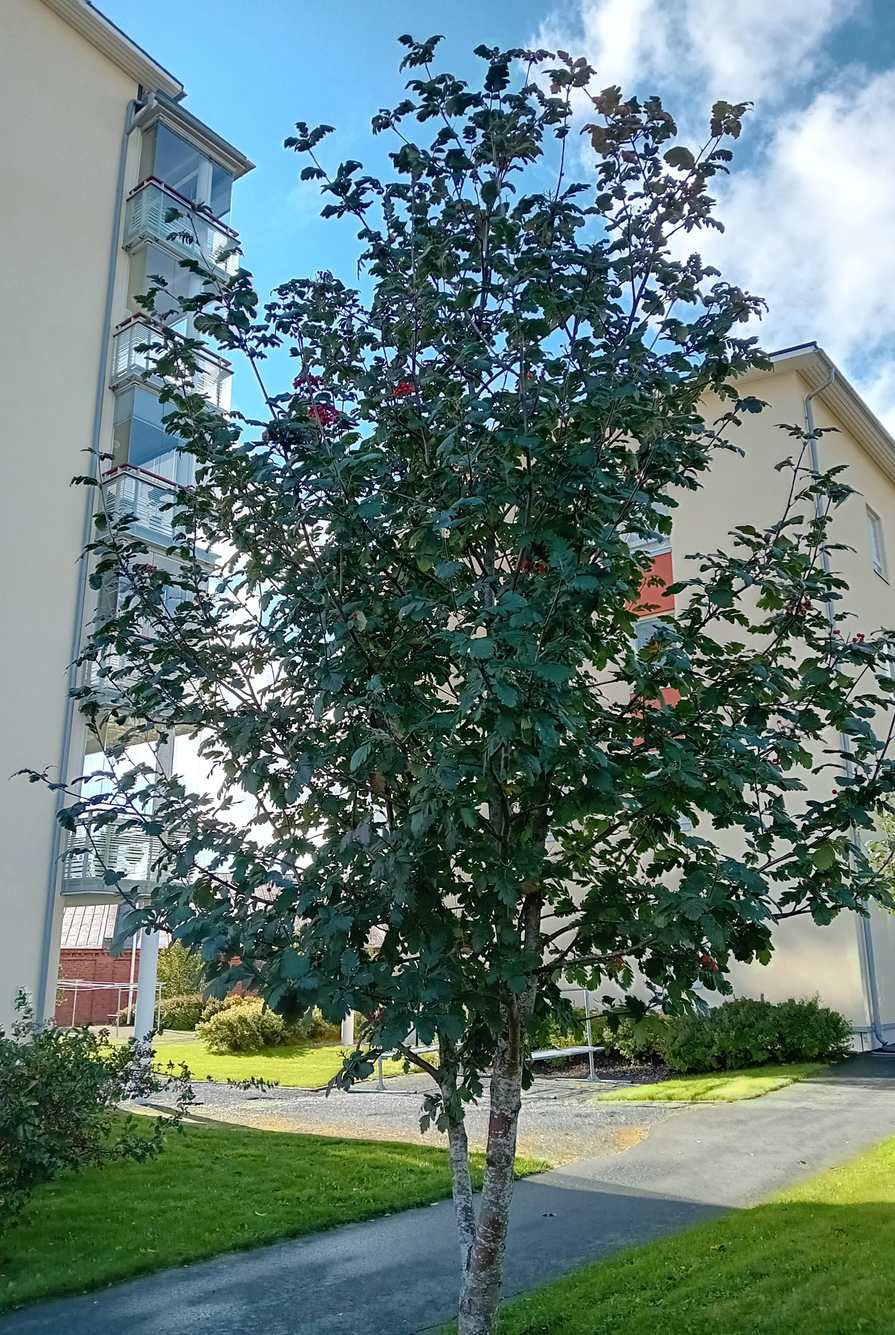Rowan: (129, 32, 859, 1330)
